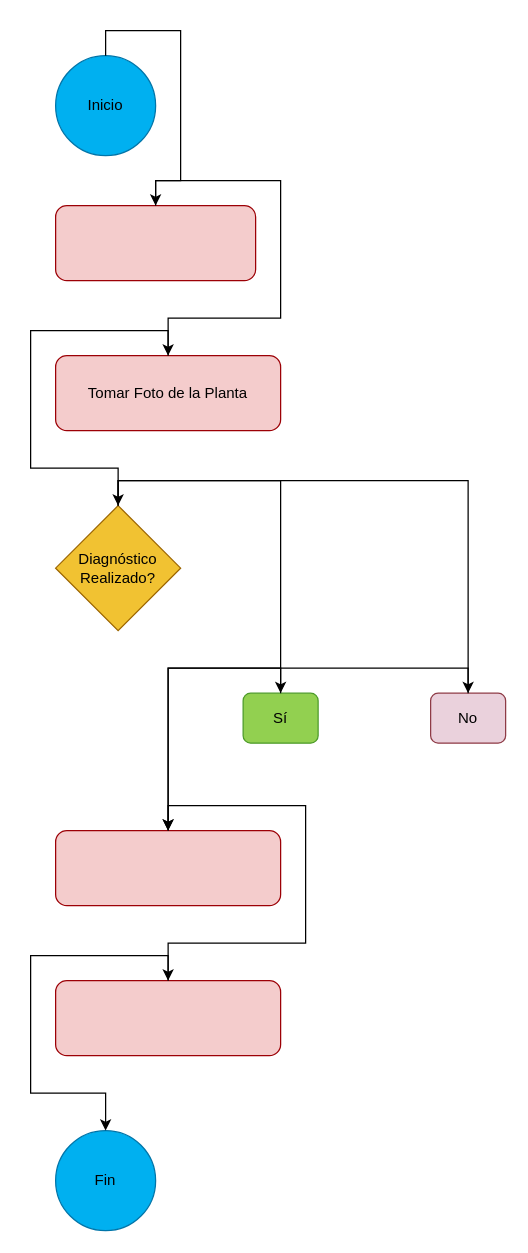
Some shapes in this 528 by 1253 pixel diagram are drawn without their labels. Here are the shapes that lost their labels. From the top down, the centre of each, then its label:
(x=155, y=242): Seleccionar Planta
(x=167, y=867): Confirmar Cuidados
(x=167, y=1017): Recibir Recordatorio
